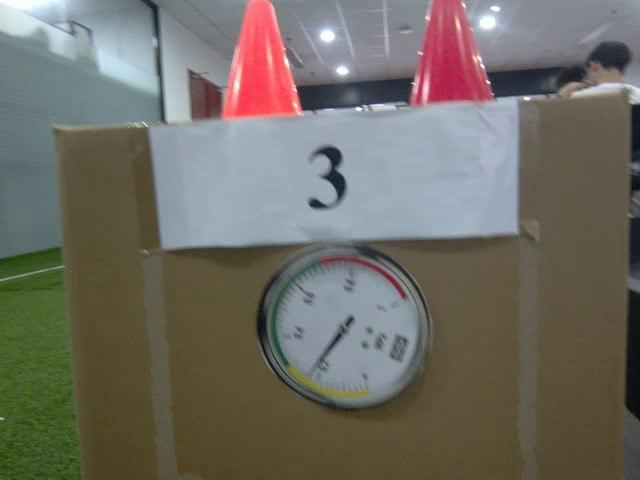3: (304, 142, 355, 212)
Dashboard: (253, 244, 433, 411)
orange_barrel: (218, 1, 304, 115)
red_barrel: (409, 0, 494, 104)
ssi: (389, 333, 408, 363)
